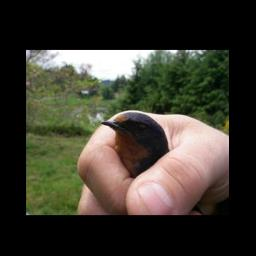Swallow: (99, 110, 171, 178)
